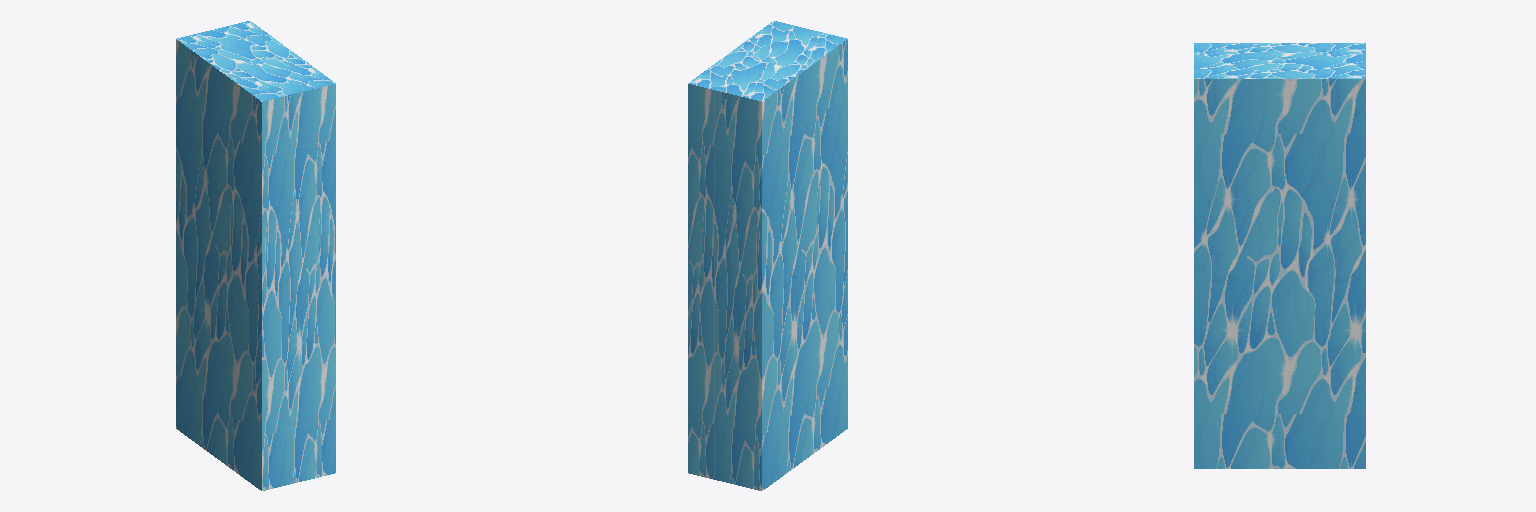
The picture shows the model from 3 angles: view 1: azimuth 30°, elevation 25°; view 2: azimuth 150°, elevation 25°; view 3: azimuth 270°, elevation 25°; orthographic projection.
Parts seen in each view (by area): view 1: Cube; view 2: Cube; view 3: Cube.
Part boxes in pixels (bbox=[...]): Cube: bbox=[176, 21, 335, 490]; Cube: bbox=[688, 21, 847, 490]; Cube: bbox=[1194, 43, 1365, 468].
Bounding box in the file's own units: 0.4 × 2 × 0.8.
1 materials, 1 textured.